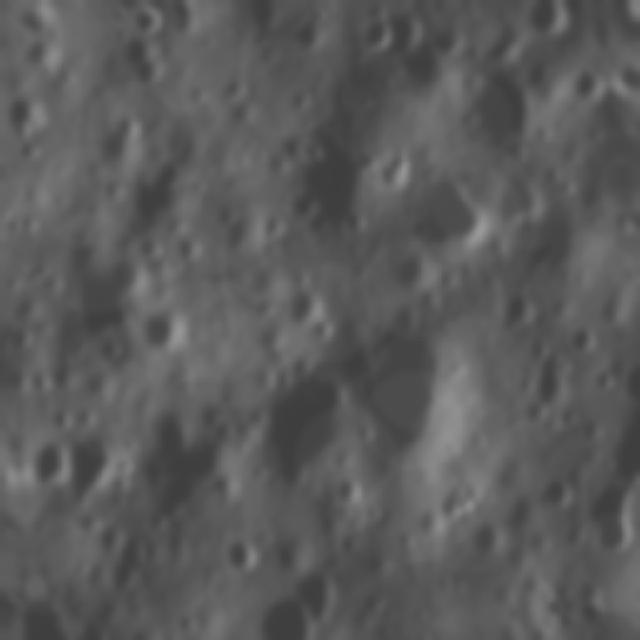crater: (343, 313, 494, 492), (273, 122, 398, 256), (251, 364, 369, 496), (394, 166, 500, 272), (62, 250, 160, 350), (458, 58, 551, 159), (520, 201, 608, 294), (580, 474, 640, 566), (180, 420, 246, 500), (59, 429, 127, 506), (486, 158, 552, 234), (289, 556, 346, 627), (378, 0, 438, 66), (282, 0, 341, 63), (15, 437, 80, 494), (595, 409, 640, 491), (87, 124, 148, 184), (253, 587, 322, 640), (136, 302, 196, 360), (434, 468, 486, 534), (346, 11, 403, 71), (102, 27, 163, 78), (530, 463, 582, 522), (514, 0, 577, 48), (278, 278, 329, 336), (2, 89, 55, 143), (384, 242, 433, 300), (428, 12, 477, 65), (468, 517, 515, 569), (22, 34, 69, 83), (372, 147, 419, 195), (564, 59, 611, 106), (577, 7, 608, 75), (146, 150, 192, 195), (492, 287, 537, 333), (128, 54, 177, 95), (380, 300, 425, 343), (101, 104, 148, 144), (251, 208, 295, 250), (326, 469, 372, 509), (279, 80, 321, 122), (584, 362, 627, 403), (562, 317, 604, 358), (328, 524, 368, 564), (168, 232, 207, 272), (614, 356, 640, 415), (129, 230, 168, 267), (10, 130, 42, 168), (121, 18, 170, 42), (422, 0, 513, 12), (221, 72, 254, 105)
